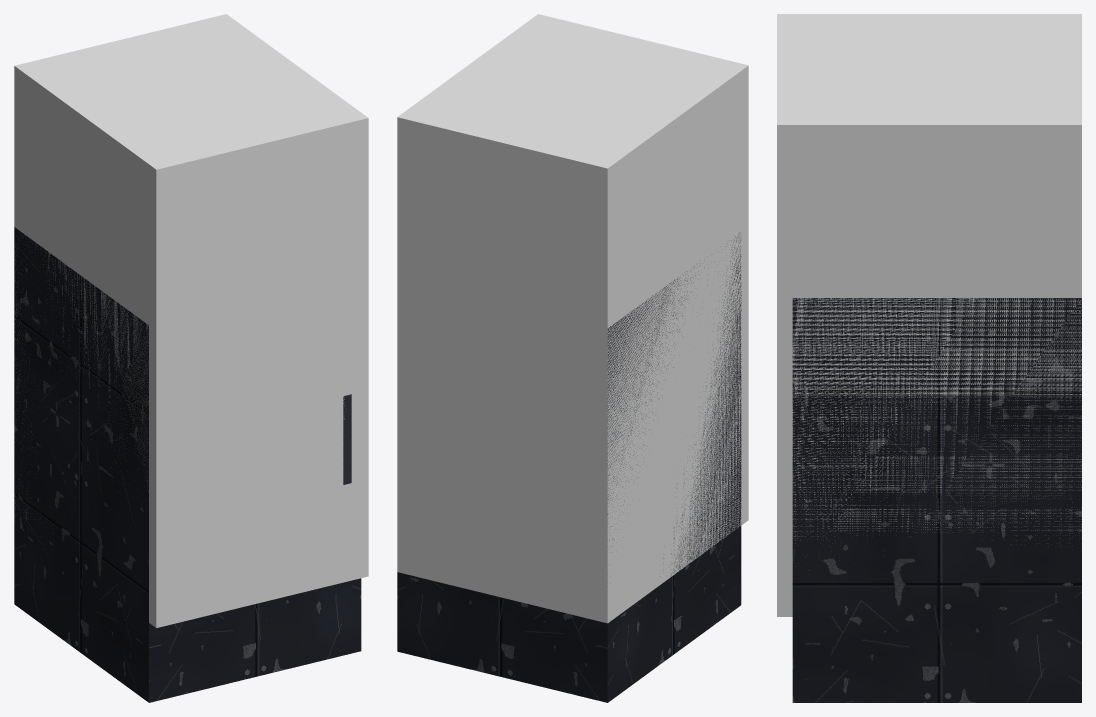
The model's file is Deco_MiniFridge.001.gltf.
3 views of the same model, side by side, from view 1: azimuth 30°, elevation 25°; view 2: azimuth 150°, elevation 25°; view 3: azimuth 270°, elevation 25° (orthographic). The views are drawn at different scales.
Parts seen in each view (by area): view 1: Deco_MiniFridge.001_COL, Deco_MiniFridge.001; view 2: Deco_MiniFridge.001_COL, Deco_MiniFridge.001; view 3: Deco_MiniFridge.001_COL, Deco_MiniFridge.001.
Boxes of the visible parts, x1,y1,x2,y2 form: Deco_MiniFridge.001_COL: [14, 14, 368, 627]; Deco_MiniFridge.001: [14, 227, 361, 702]; Deco_MiniFridge.001_COL: [397, 14, 748, 623]; Deco_MiniFridge.001: [397, 232, 741, 702]; Deco_MiniFridge.001_COL: [777, 14, 1081, 616]; Deco_MiniFridge.001: [792, 298, 1081, 702].
Size of the model in its own units: 0.5 by 1.21 by 0.58.
11 materials, 2 textured.
